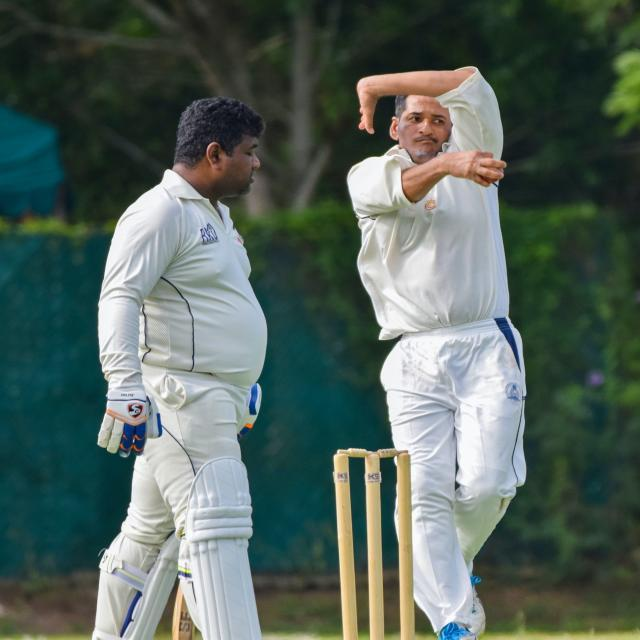stumps: (331, 445, 413, 638)
